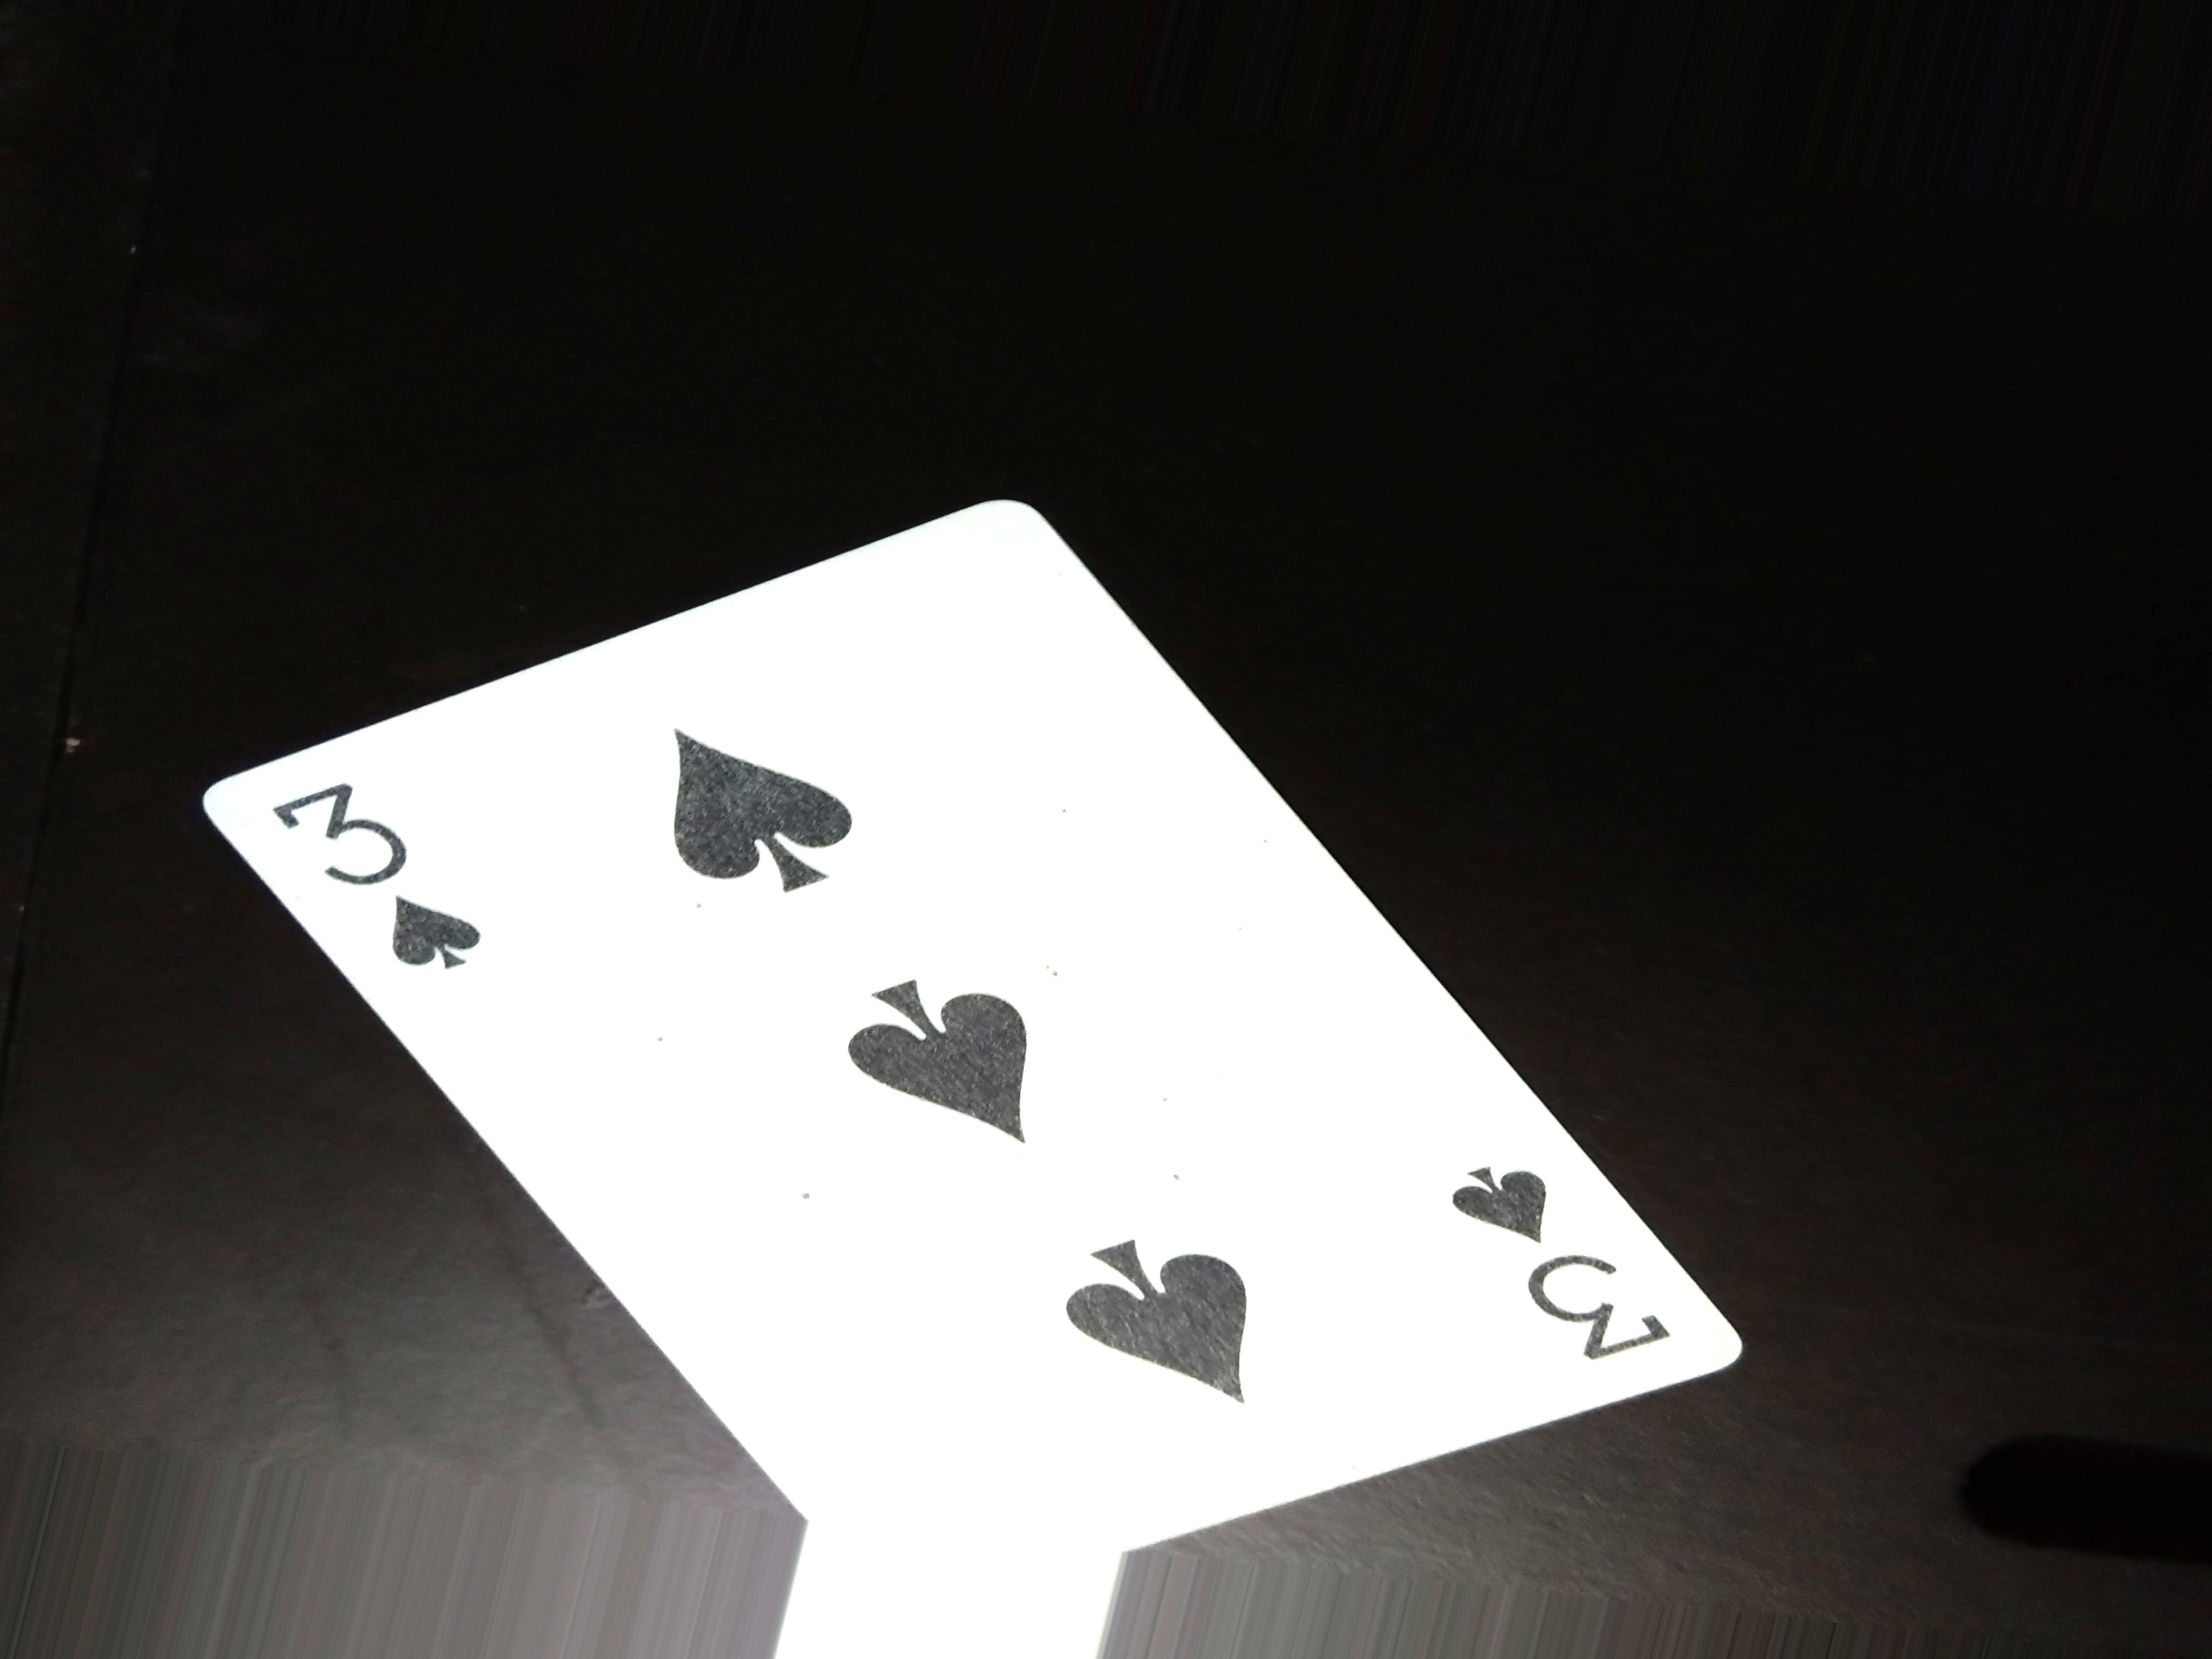3S: (1418, 1148, 1676, 1371)
